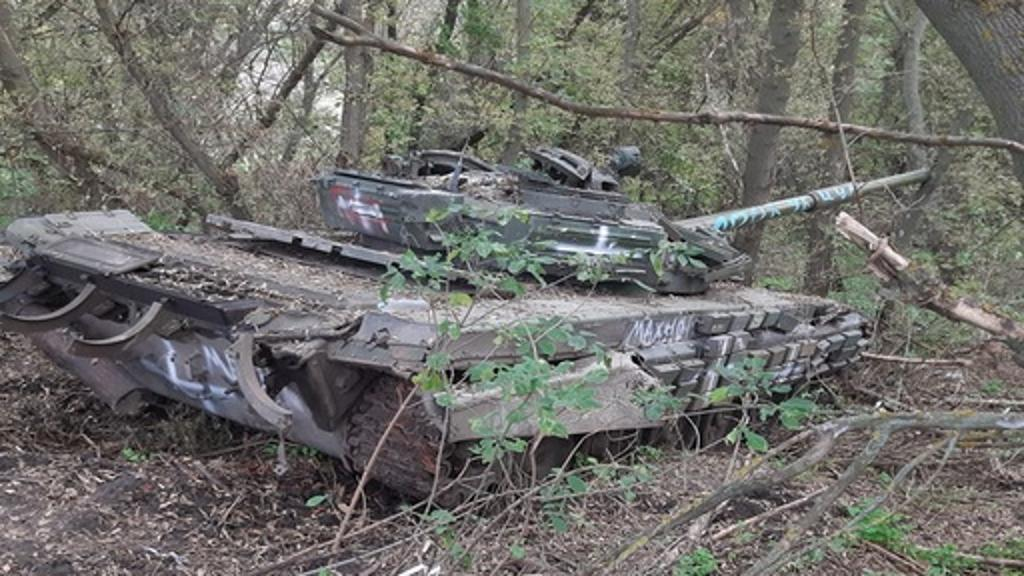TANK: (0, 122, 946, 512)
